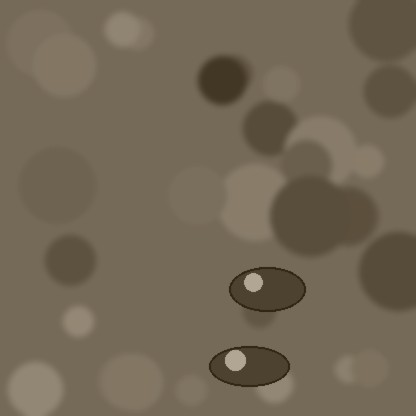gota: (229, 269, 305, 315), (209, 348, 289, 390)
